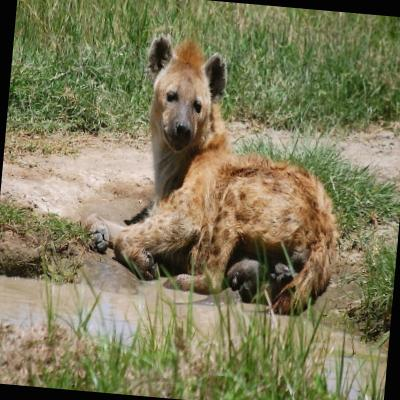hyenas: (86, 20, 390, 311)
